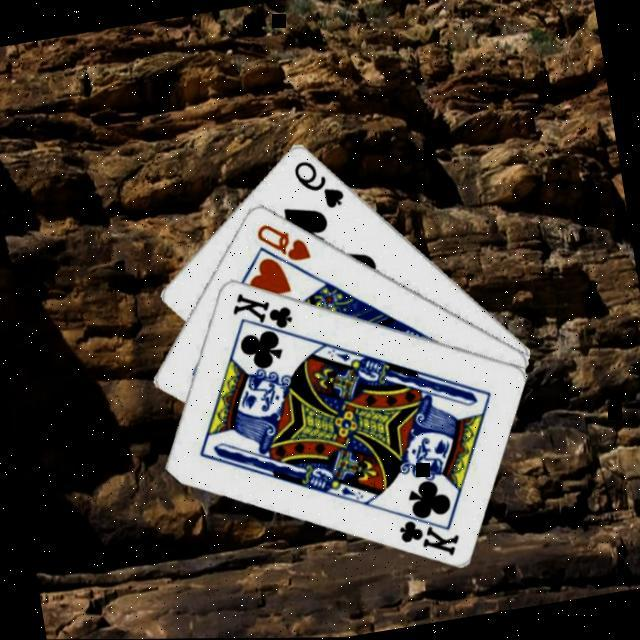9S: (291, 150, 351, 214)
KC: (228, 282, 300, 348), (394, 498, 466, 564)
QH: (254, 213, 316, 269)
